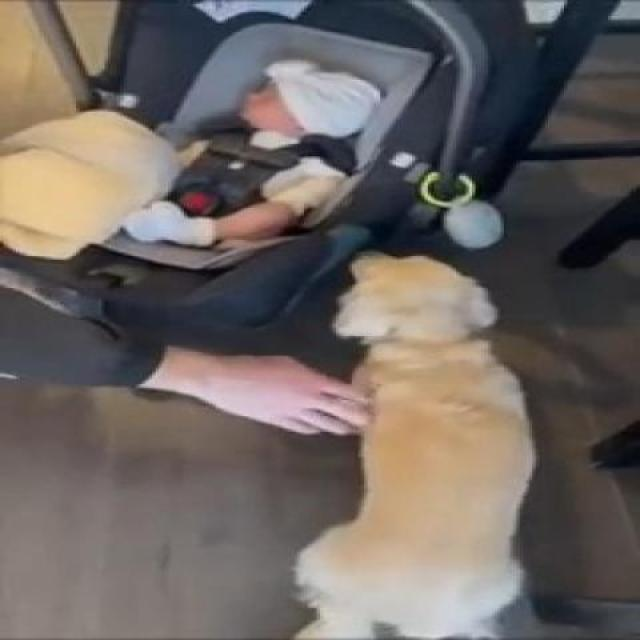dog: (272, 237, 567, 634)
